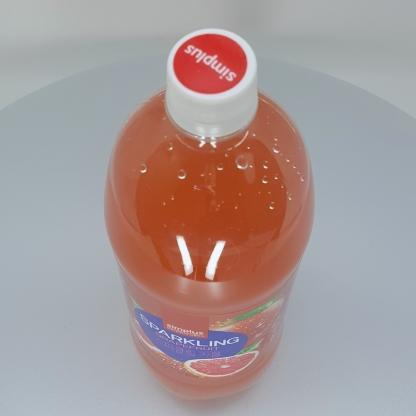--------------: (103, 28, 315, 403)
